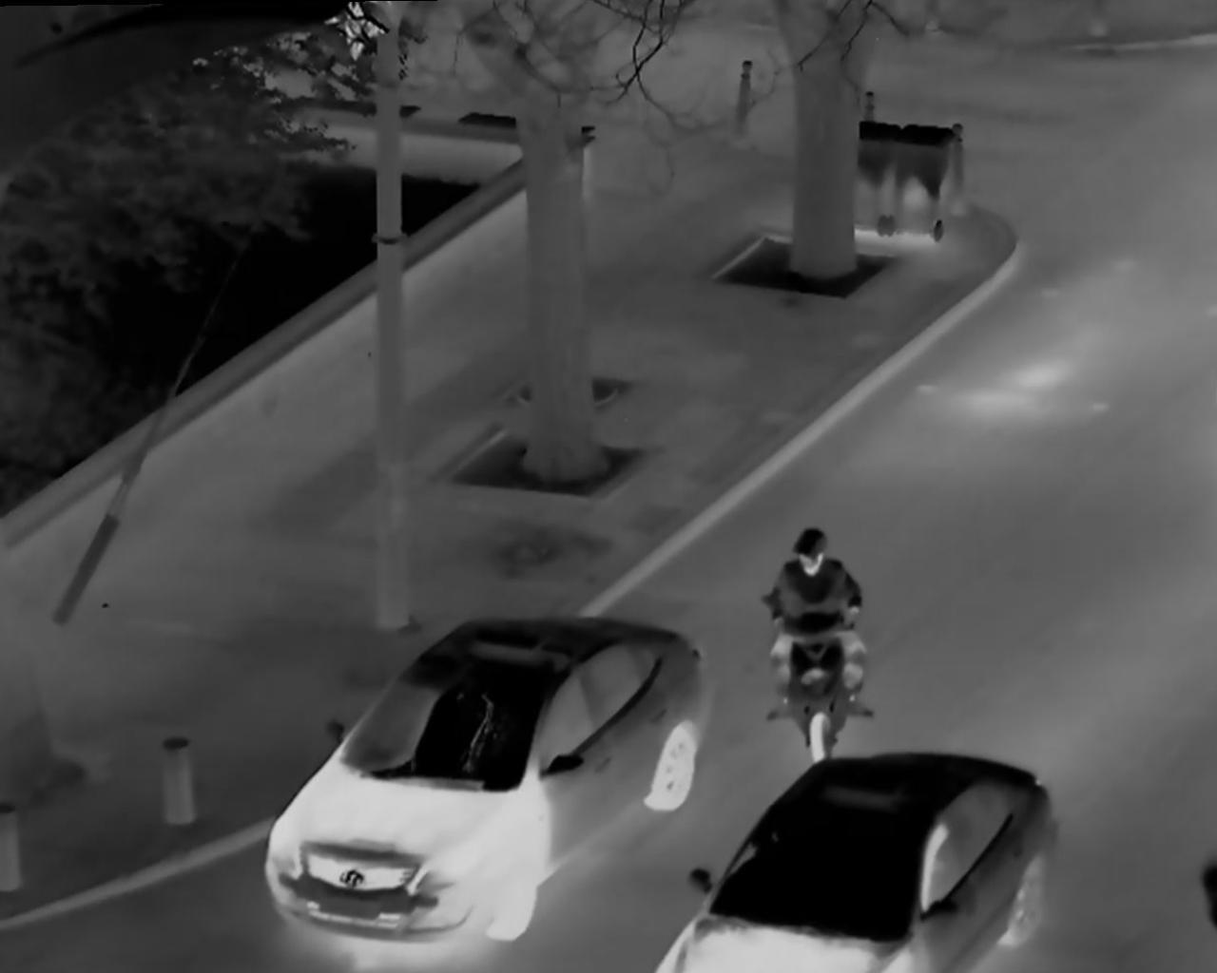person: (750, 520, 872, 763)
